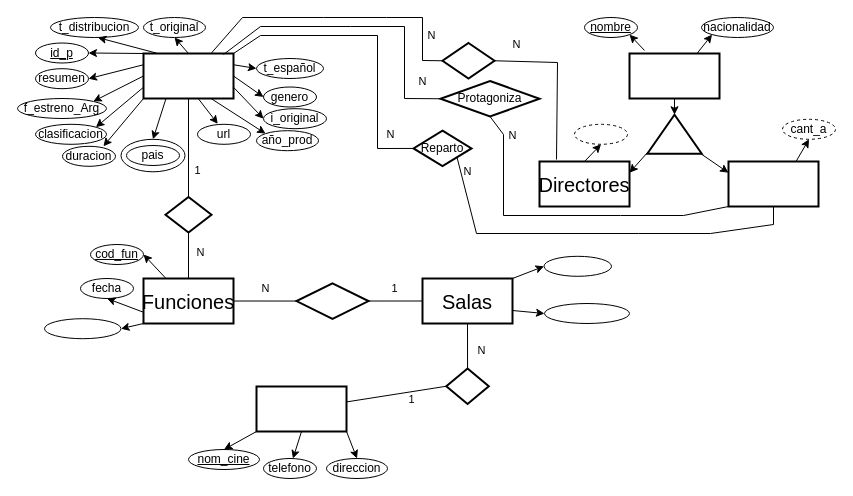
The diagram is 853 pixels wide and 496 high, and some of its shapes have lost their labels. Here are the shapes that lost their labels. From the top down, the box of each, then its label:
(142, 52, 234, 99): Peliculas
(441, 42, 495, 79): Dirige
(628, 52, 720, 99): Persona
(574, 123, 628, 144): cant_d
(646, 113, 702, 154): is_a
(727, 160, 819, 207): Actores
(164, 196, 212, 233): Exibe
(543, 255, 612, 276): num_sala
(295, 282, 369, 319): Proyecta
(544, 302, 630, 324): cant_butacas
(44, 318, 121, 339): h_comienzo
(445, 367, 489, 404): Tiene
(255, 385, 347, 432): Cine
